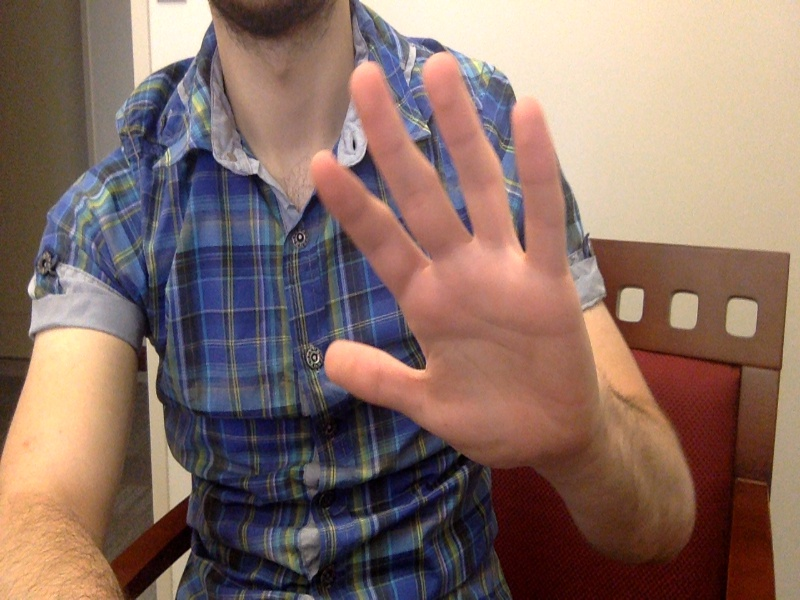5-hand: (320, 52, 607, 471)
